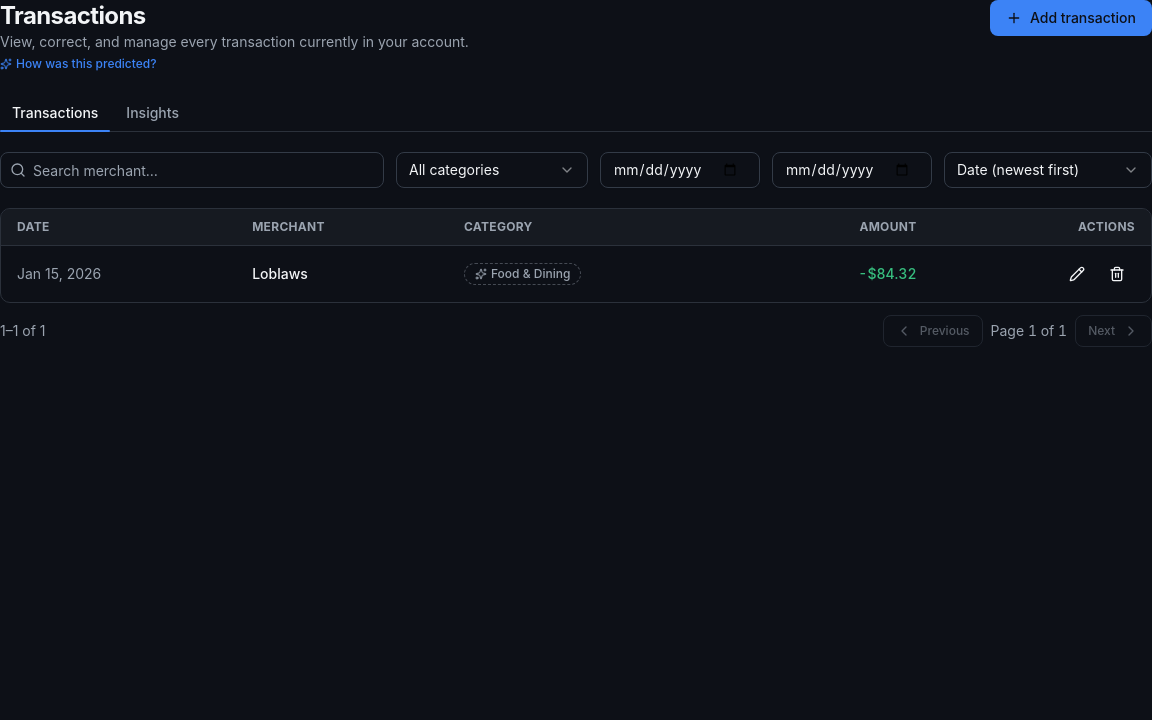
Test case: TransactionsPage › updates the badge after a category correction is confirmed
Expected: the text "Loblaws" is shown, [236, 246, 448, 302]
Expected: the element titled "Predicted by the categorization model" is shown, [464, 263, 581, 285]
Click the button named "Edit Loblaws" at x=1077, y=274, box [1059, 256, 1095, 292]
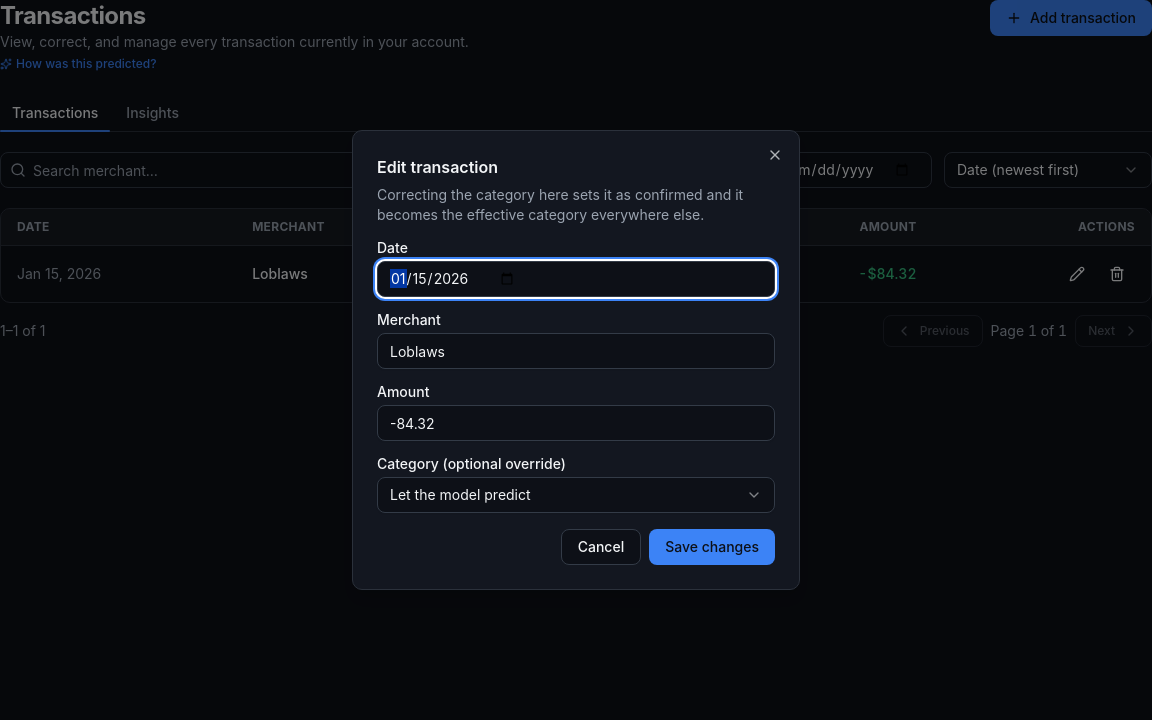
Click the dropdown named "Category" at x=460, y=494, box [377, 477, 775, 513]
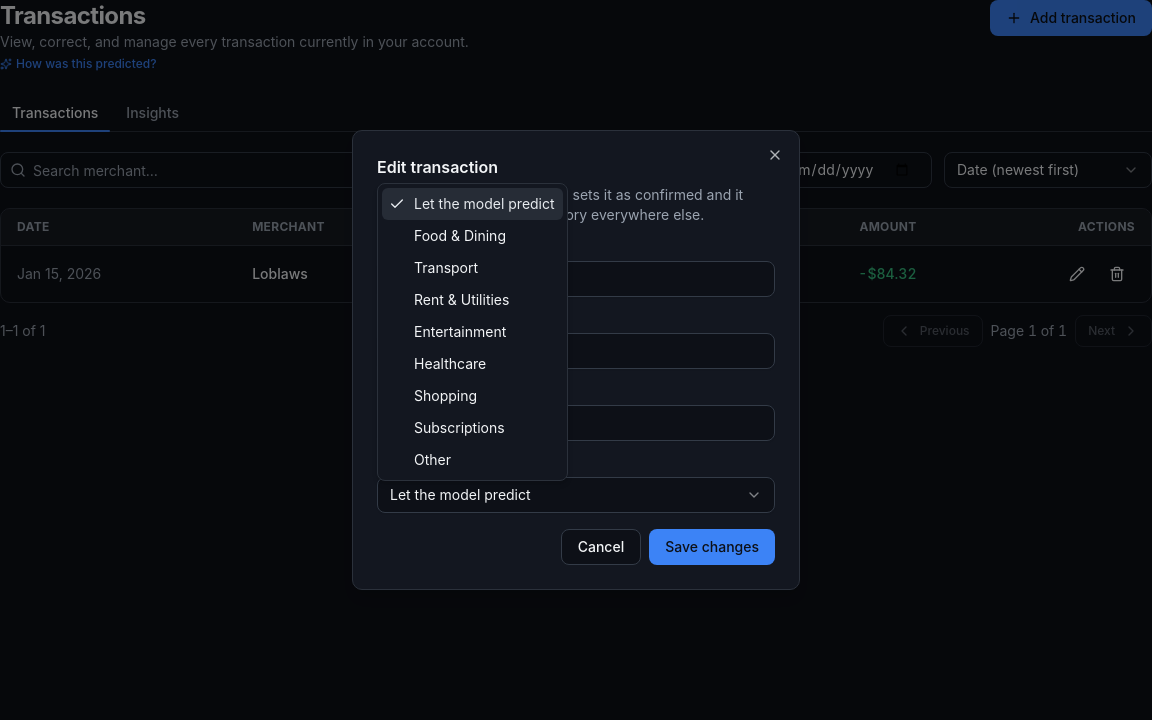
Click the option "Shopping" at x=446, y=396, box [414, 387, 477, 404]
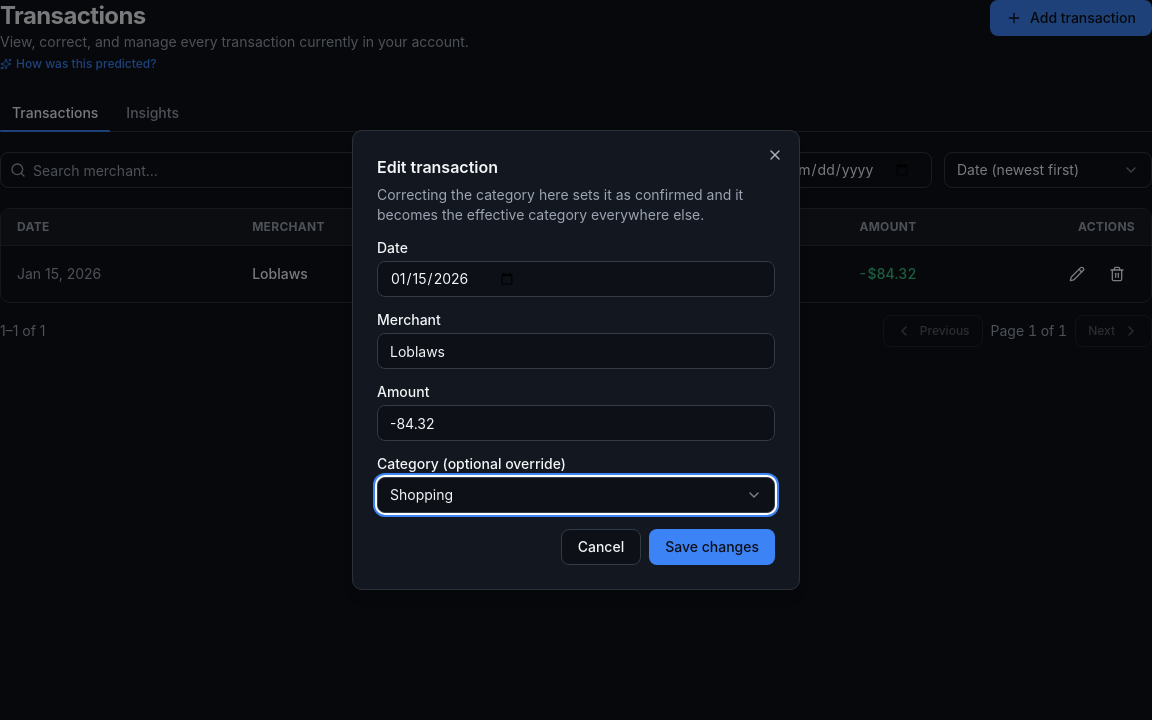
Click the button "Save changes" at x=712, y=547, box [649, 529, 775, 565]
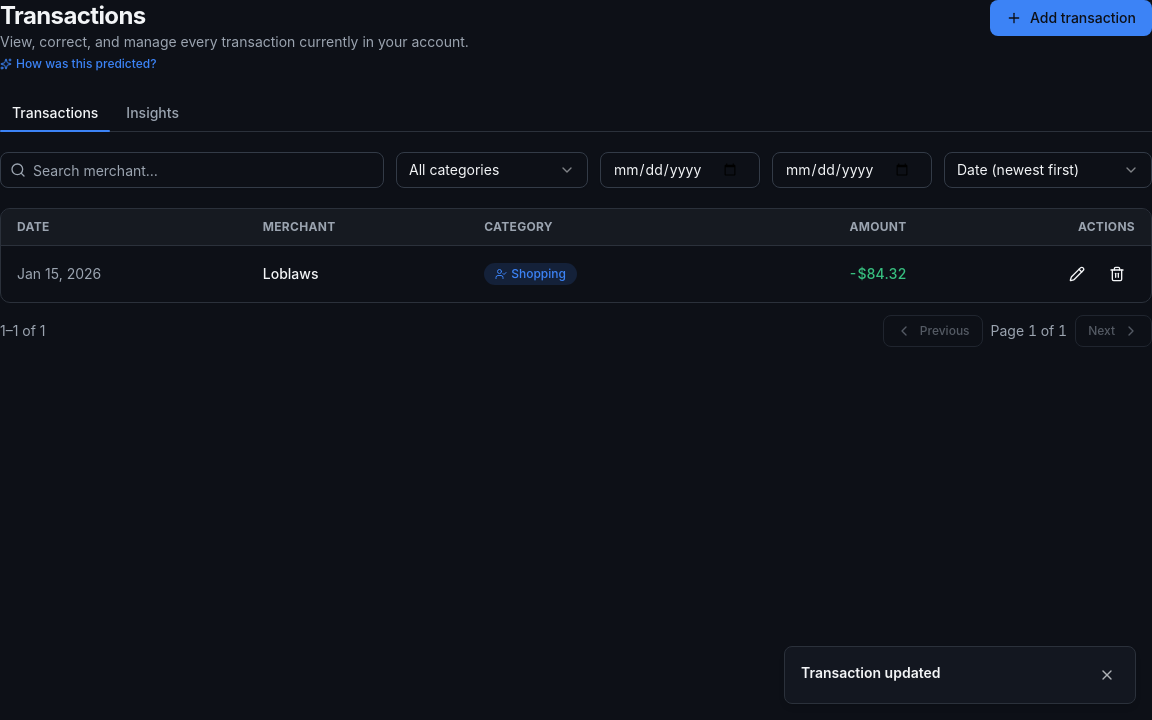
Expected: the element titled "Confirmed by you" reads "Shopping", [511, 266, 566, 281]
